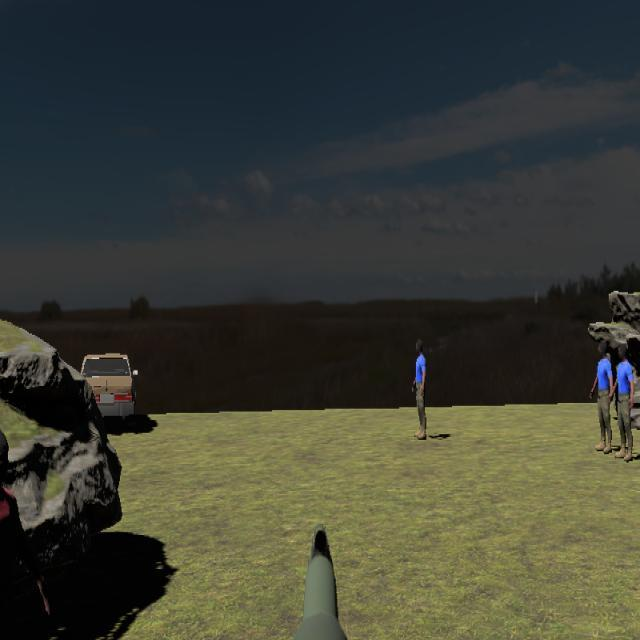Human: (0, 418, 32, 640), (608, 343, 635, 462), (590, 340, 615, 452), (412, 338, 427, 441), (412, 339, 427, 442)
car: (80, 351, 140, 430)
